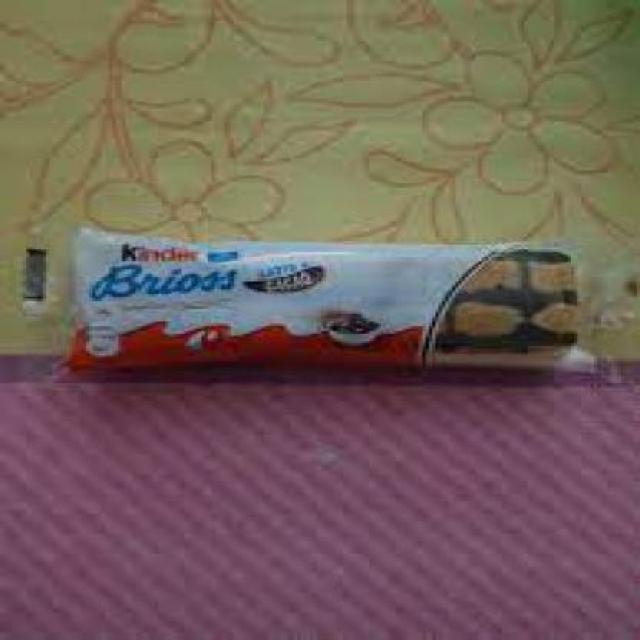Merendine packaged: (16, 222, 630, 390)
